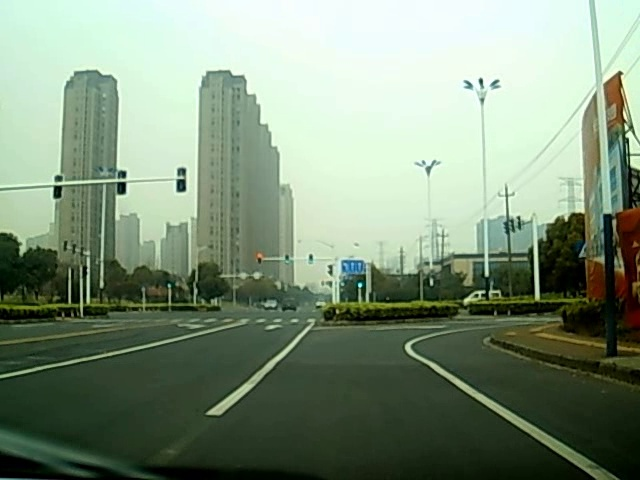Traffic_Light_go: (285, 253, 290, 264), (308, 253, 312, 264)
Traffic_Light_stop: (256, 252, 262, 264)
